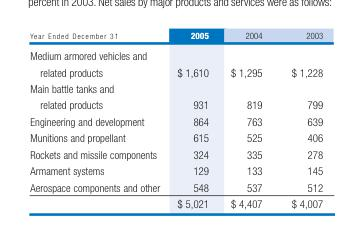table: (29, 29, 322, 209)
table column: (29, 29, 167, 209), (219, 29, 276, 209), (167, 29, 219, 209), (276, 29, 322, 209)
table column header: (29, 29, 322, 44)
table row: (29, 44, 322, 79), (29, 79, 322, 112), (29, 112, 322, 129), (29, 145, 322, 162), (29, 129, 322, 145), (29, 162, 322, 178), (29, 178, 322, 194), (29, 29, 322, 44), (29, 194, 322, 209)
